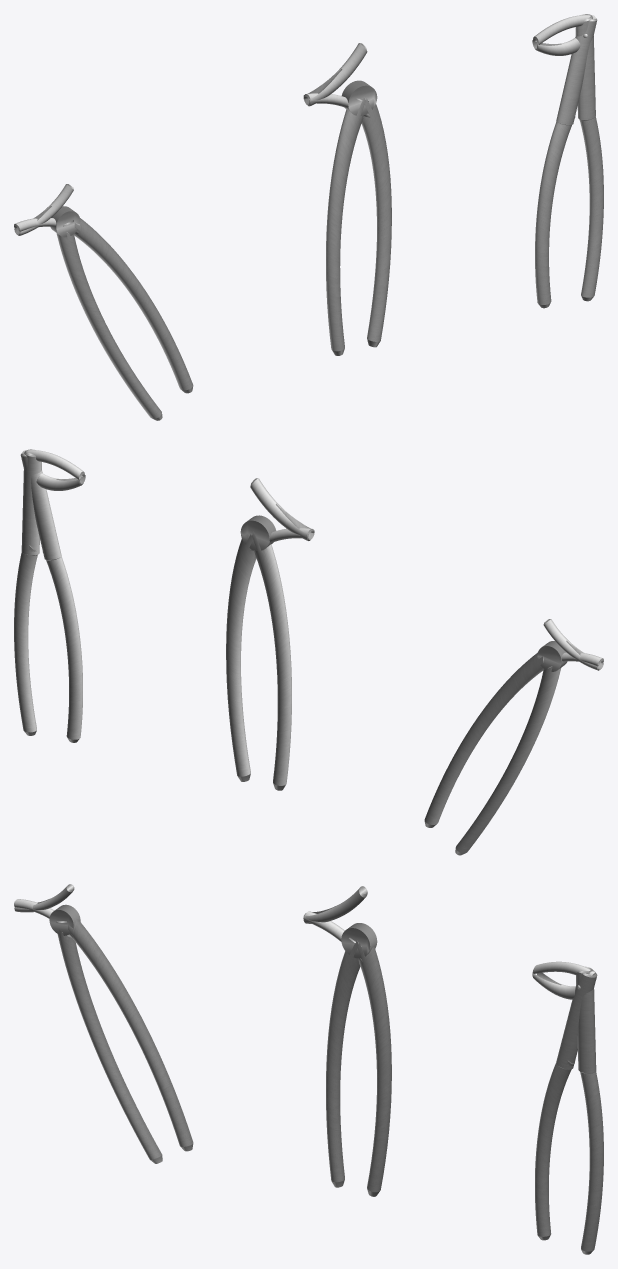
Rendered from Lower Forceps.fbx.
3 views of the same model, one above another, from view 1: azimuth 30°, elevation 25°; view 2: azimuth 150°, elevation 25°; view 3: azimuth 330°, elevation 25° (orthographic).
Visible parts, largest first — view 1: Body 1, Body 2, Upper Leg 2, Upper leg 1, Arm 4, Arm 6; view 2: Body 1, Body 2, Upper Leg 2, Upper leg 1, Arm 4, Arm 6; view 3: Body 1, Body 2, Upper leg 1, Upper Leg 2, Arm 4.
Part boxes in pixels (x1,y1,x2,y2): Body 1: [326, 80, 391, 355]; Body 2: [50, 206, 193, 420]; Upper Leg 2: [533, 15, 597, 308]; Upper leg 1: [532, 14, 603, 301]; Arm 4: [303, 43, 367, 106]; Arm 6: [14, 184, 73, 235]; Body 1: [226, 515, 291, 790]; Body 2: [424, 641, 567, 855]; Upper Leg 2: [20, 450, 84, 742]; Upper leg 1: [14, 449, 85, 735]; Arm 4: [250, 478, 314, 540]; Arm 6: [543, 619, 603, 670]; Body 1: [326, 923, 391, 1196]; Body 2: [49, 904, 193, 1163]; Upper leg 1: [532, 966, 603, 1254]; Upper Leg 2: [533, 961, 597, 1240]; Arm 4: [303, 886, 367, 923].
Bounding box in the file's own units: 896 × 476 × 20.49.
1 material, 1 textured.
